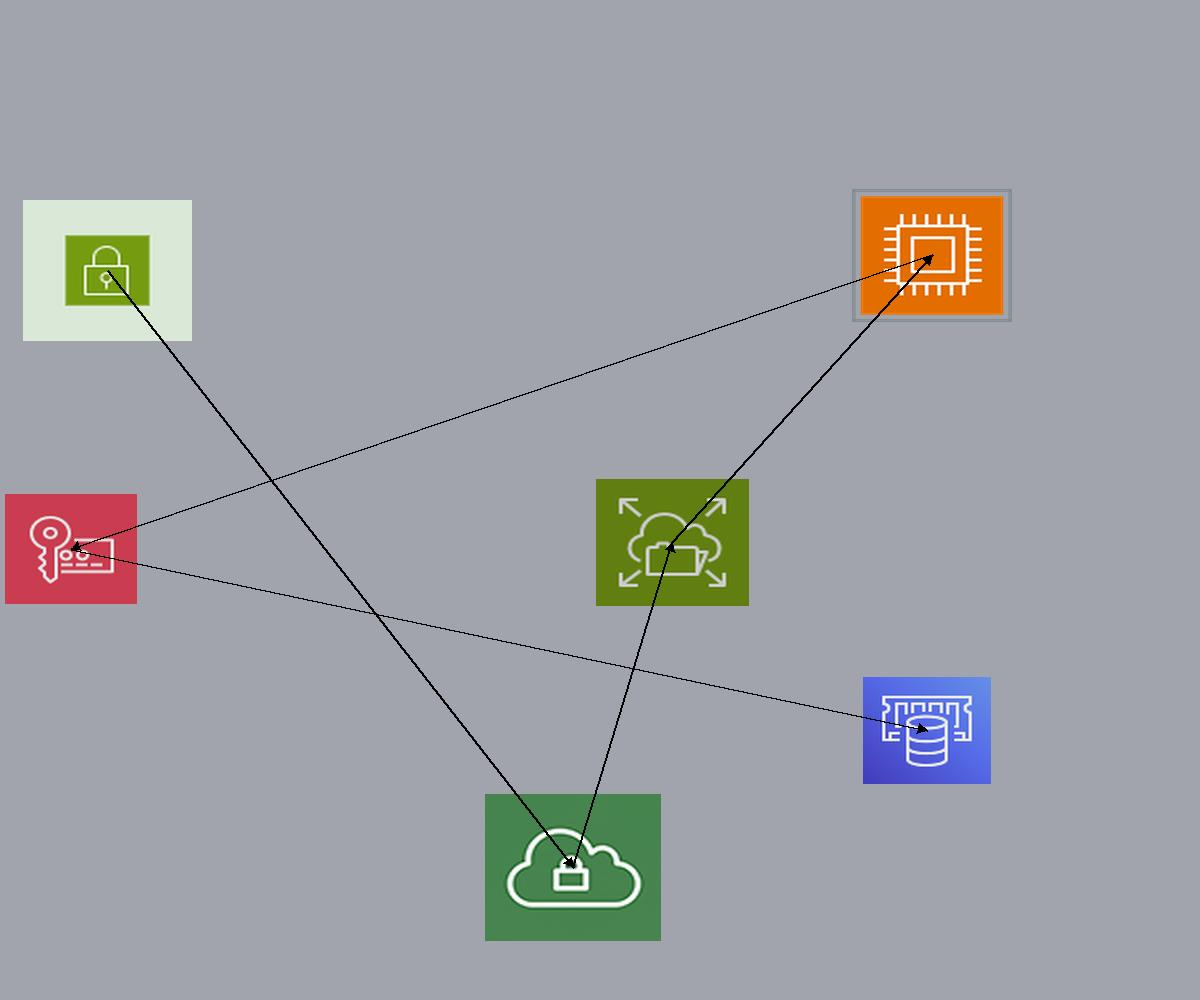AWS-Category_Compute: (852, 189, 1012, 322)
AWS-EFS: (596, 479, 749, 606)
AWS-ElastiCache: (863, 677, 991, 784)
AWS-Key-Management-Service: (5, 494, 137, 604)
AWS-Private_vpc: (485, 794, 661, 941)
AWS-Public-subnet: (23, 200, 192, 341)
